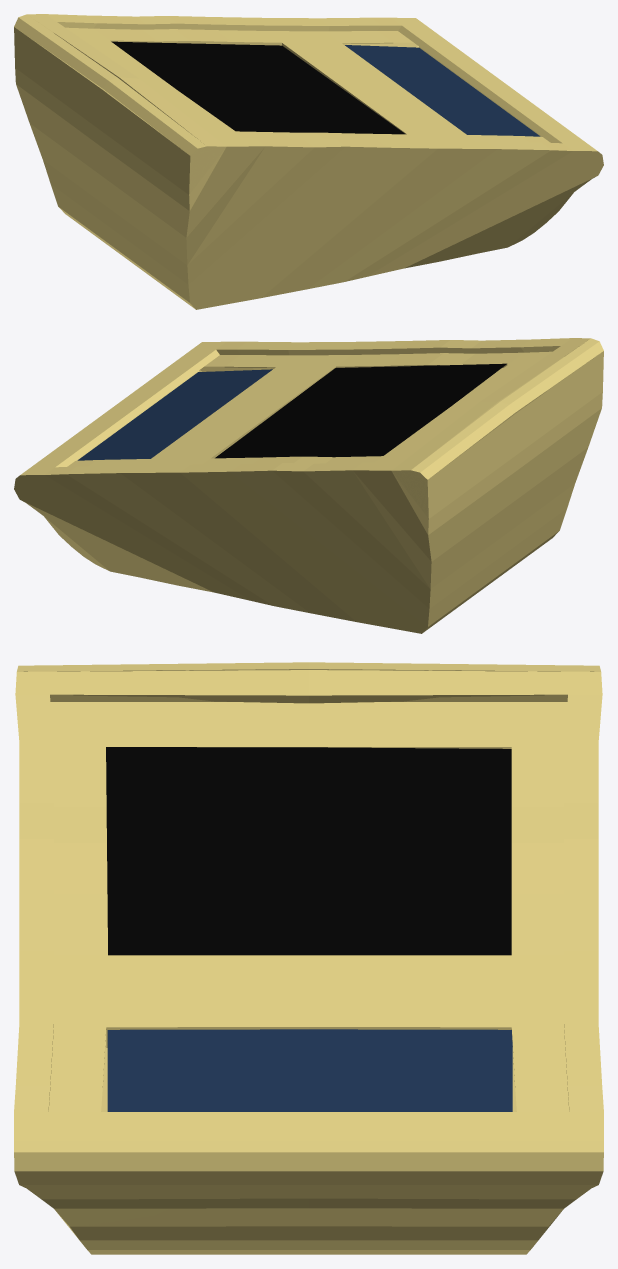
Rendered from huyetap25.glb.
3 renders of one model, top to bottom at view 1: azimuth 30°, elevation 25°; view 2: azimuth 150°, elevation 25°; view 3: azimuth 270°, elevation 25°, orthographic. The views are drawn at different scales.
Parts seen in each view (by area): view 1: Vert.001; view 2: Vert.001; view 3: Vert.001.
Part boxes in pixels (left/top/right/bottom): Vert.001: left=14, top=14, right=603, bottom=309; Vert.001: left=14, top=338, right=603, bottom=633; Vert.001: left=14, top=662, right=603, bottom=1254.
Bounding box in the file's own units: 4.58 × 2.13 × 3.52.
